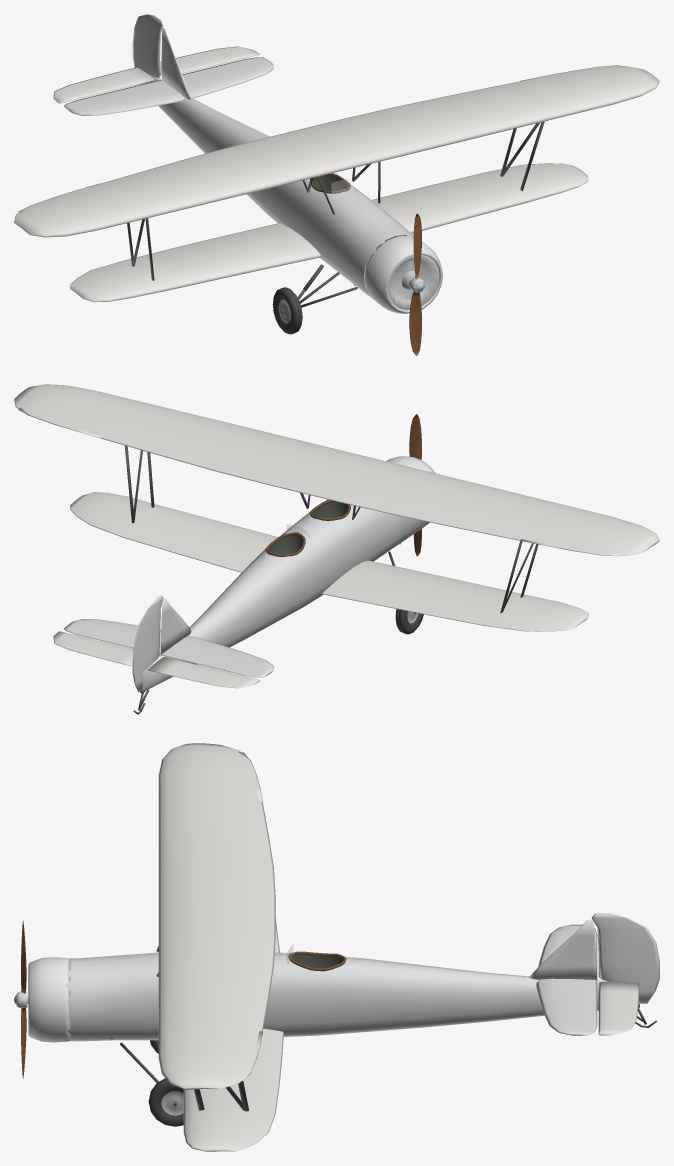
3 renders of one model, top to bottom at view 1: azimuth 30°, elevation 25°; view 2: azimuth 150°, elevation 25°; view 3: azimuth 270°, elevation 25°, orthographic. The views are drawn at different scales.
Visible parts, largest first — view 1: NU36_Upper_Wing, NU36_Lower_Wing, NU36_Fuselage, NU36_Horizontal_Stabilizer, NU36_Engine_Cowling_Ring, NU36_Control_Elevator_L, NU36_Control_Rudder, NU36_Propeller, NU36_Control_Elevator_R, NU36_Gear_Wheel_L, NU36_Vertical_Stabilizer, NU36_Wing_Struct_Interplane_Right (+2 smaller); view 2: NU36_Upper_Wing, NU36_Lower_Wing, NU36_Fuselage, NU36_Horizontal_Stabilizer, NU36_Control_Rudder, NU36_Control_Elevator_L, NU36_Control_Elevator_R, NU36_Vertical_Stabilizer, NU36_Cockpit_Interior, NU36_Propeller, NU36_Wing_Struct_Interplane_Right, NU36_Wing_Struct_Interplane_Left (+1 smaller); view 3: NU36_Upper_Wing, NU36_Fuselage, NU36_Lower_Wing, NU36_Control_Rudder, NU36_Horizontal_Stabilizer, NU36_Engine_Cowling_Ring, NU36_Vertical_Stabilizer, NU36_Control_Elevator_R, NU36_Gear_Wheel_R, NU36_Propeller.
Part boxes in pixels (bbox=[...]): NU36_Upper_Wing: bbox=[14, 66, 659, 237]; NU36_Lower_Wing: bbox=[70, 163, 588, 302]; NU36_Fuselage: bbox=[140, 69, 439, 310]; NU36_Horizontal_Stabilizer: bbox=[64, 57, 273, 115]; NU36_Engine_Cowling_Ring: bbox=[364, 235, 442, 313]; NU36_Control_Elevator_L: bbox=[53, 67, 154, 103]; NU36_Control_Rudder: bbox=[132, 14, 163, 84]; NU36_Propeller: bbox=[409, 213, 425, 355]; NU36_Control_Elevator_R: bbox=[159, 46, 259, 75]; NU36_Gear_Wheel_L: bbox=[272, 287, 302, 334]; NU36_Vertical_Stabilizer: bbox=[160, 28, 191, 99]; NU36_Wing_Struct_Interplane_Right: bbox=[500, 121, 544, 190]; NU36_Upper_Wing: bbox=[14, 384, 659, 556]; NU36_Lower_Wing: bbox=[70, 492, 588, 631]; NU36_Fuselage: bbox=[142, 499, 425, 690]; NU36_Horizontal_Stabilizer: bbox=[64, 619, 273, 677]; NU36_Control_Rudder: bbox=[132, 595, 163, 692]; NU36_Control_Elevator_L: bbox=[147, 657, 259, 688]; NU36_Control_Elevator_R: bbox=[53, 631, 133, 666]; NU36_Vertical_Stabilizer: bbox=[160, 599, 191, 654]; NU36_Cockpit_Interior: bbox=[268, 501, 348, 554]; NU36_Propeller: bbox=[409, 414, 422, 556]; NU36_Wing_Struct_Interplane_Right: bbox=[124, 445, 154, 523]; NU36_Wing_Struct_Interplane_Left: bbox=[500, 541, 538, 613]; NU36_Upper_Wing: bbox=[158, 743, 275, 1089]; NU36_Fuselage: bbox=[64, 952, 638, 1041]; NU36_Lower_Wing: bbox=[183, 919, 283, 1151]; NU36_Control_Rudder: bbox=[591, 913, 659, 1003]; NU36_Horizontal_Stabilizer: bbox=[536, 924, 597, 1035]; NU36_Engine_Cowling_Ring: bbox=[28, 957, 70, 1042]; NU36_Vertical_Stabilizer: bbox=[529, 920, 597, 979]; NU36_Control_Elevator_R: bbox=[598, 981, 638, 1035]; NU36_Gear_Wheel_R: bbox=[148, 1078, 183, 1126]; NU36_Propeller: bbox=[14, 920, 27, 1079].
Size of the model in its own units: 9.74 by 2.44 by 7.73.
